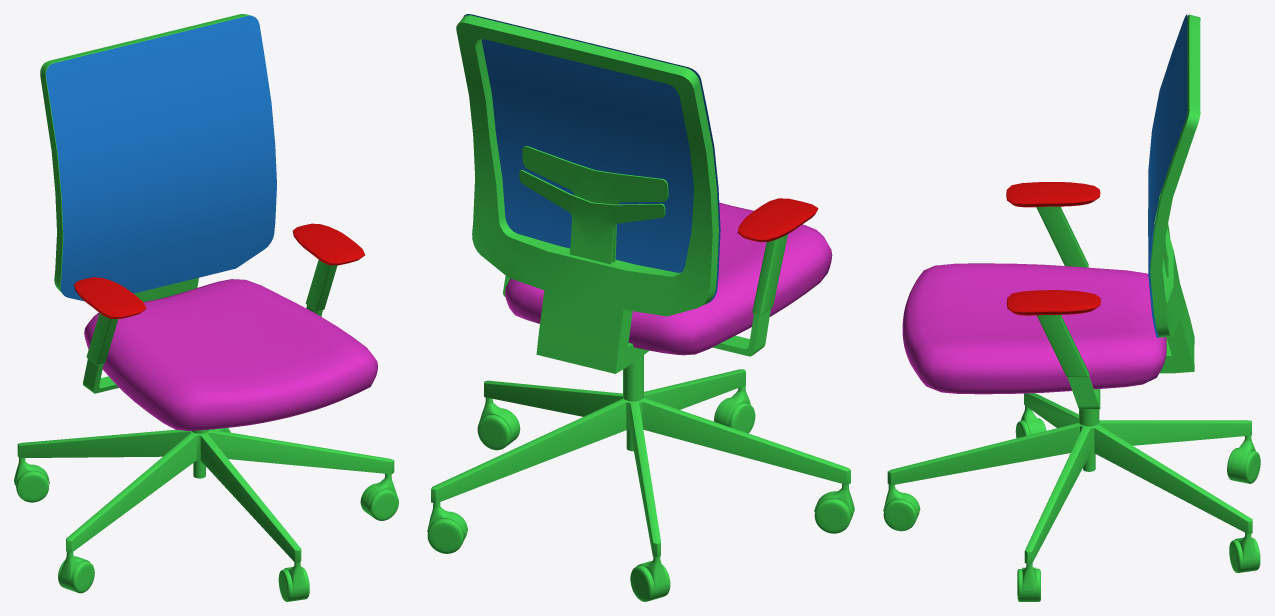
File: Office Chair 3.fbx
3 renders of one model, left to right at view 1: azimuth 30°, elevation 25°; view 2: azimuth 150°, elevation 25°; view 3: azimuth 270°, elevation 25°, orthographic. The views are drawn at different scales.
Parts seen in each view (by area): view 1: Chair 3.005; view 2: Chair 3.005; view 3: Chair 3.005.
Part boxes in pixels (box(x1,y1,x2,y2)): Chair 3.005: box(14, 14, 398, 601); Chair 3.005: box(427, 14, 854, 601); Chair 3.005: box(883, 14, 1260, 601).
Size of the model in its own units: 104 by 137 by 101.
